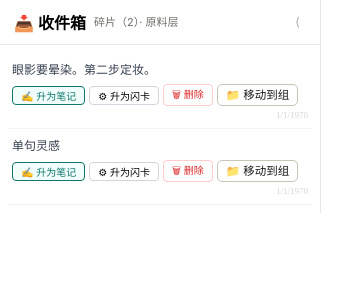
it: 批 7 C11 · 片段归组入口（update_fragment_group） › 失败路径不静默：命令 reject ⇒ 收件箱错误行可见，且带后端原因（父层既有 setErr 形态）
The width and height of the screenshot is (338, 288).
Check: the element with test id "fragment-card-2" is shown, box [8,129,312,205]
What coordinates should you click on to do the following:
click the button with test id "fragment-move-group-2"
I would click on:
 (258, 171)
Its box is [217,160,298,182].
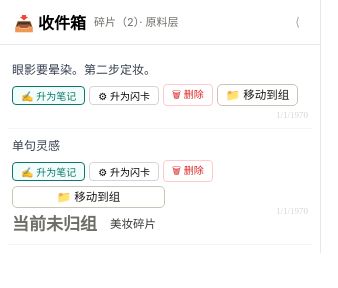
What coordinates should you click on to do the following:
click the button with test id "fragment-move-group-2-11"
I would click on:
 (133, 224)
Its box is [101,213,165,235].
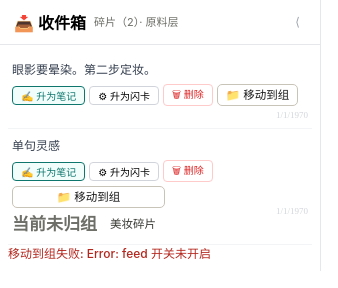
Check: the message with test id "inbox-error" shows "移动到组失败", box [8,246,211,261]
Check: the message with test id "inbox-error" shows "feed 开关未开启", box [8,246,211,261]
